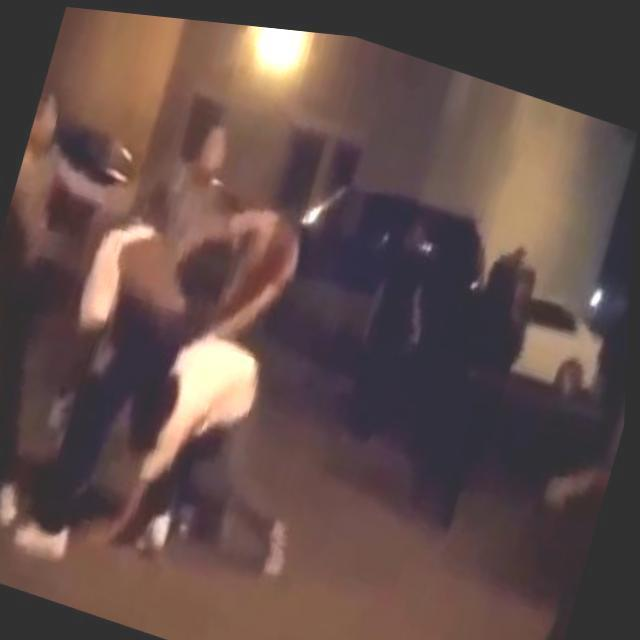fight: (0, 144, 376, 634)
